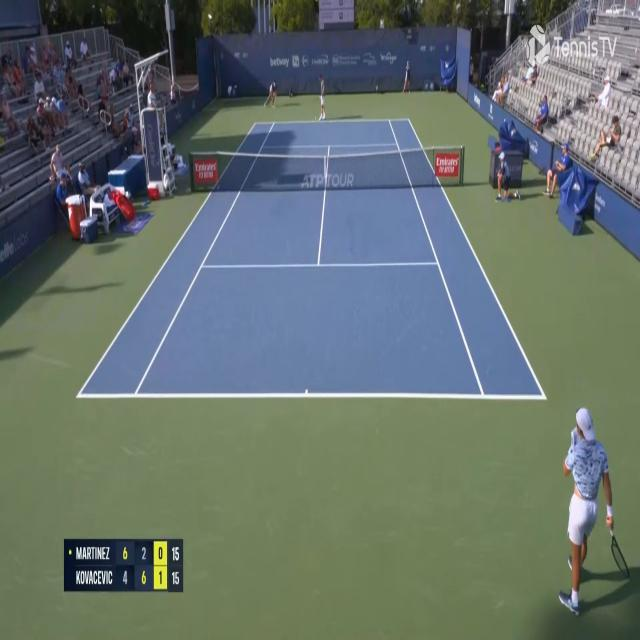tennis-player: (560, 400, 632, 621), (316, 71, 327, 122)
